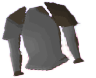ironplatearmour: (1, 1, 93, 78)
